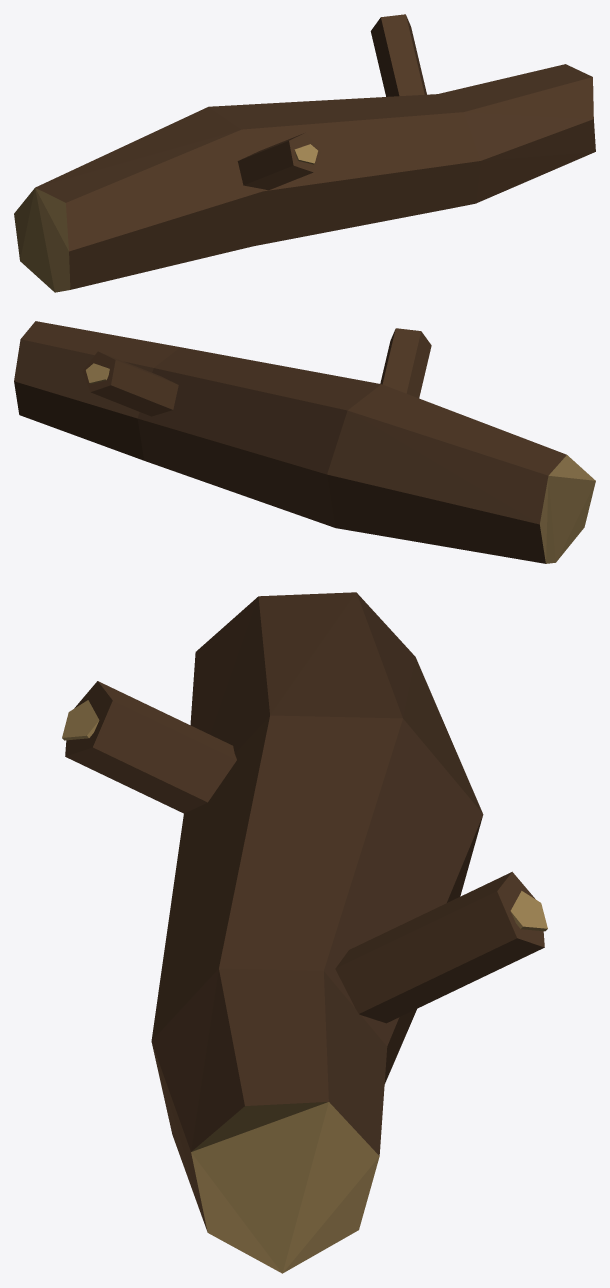
Rendered from E8_log_b.glb.
The picture shows the model from 3 angles, top to bottom: view 1: azimuth 30°, elevation 25°; view 2: azimuth 150°, elevation 25°; view 3: azimuth 270°, elevation 25°; orthographic projection. The views are drawn at different scales.
Parts seen in each view (by area): view 1: E8_log_b; view 2: E8_log_b; view 3: E8_log_b.
Boxes of the visible parts, <box> form: E8_log_b: <box>14,14,595,292</box>; E8_log_b: <box>14,321,595,563</box>; E8_log_b: <box>62,592,547,1273</box>.
Bounding box in the file's own units: 1.5 × 0.4077 × 0.5886.
